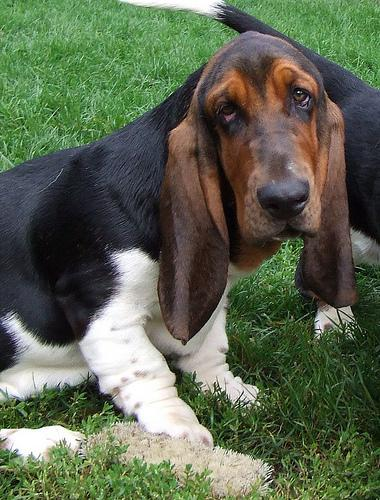dog-basset_hound: (156, 29, 356, 344)
